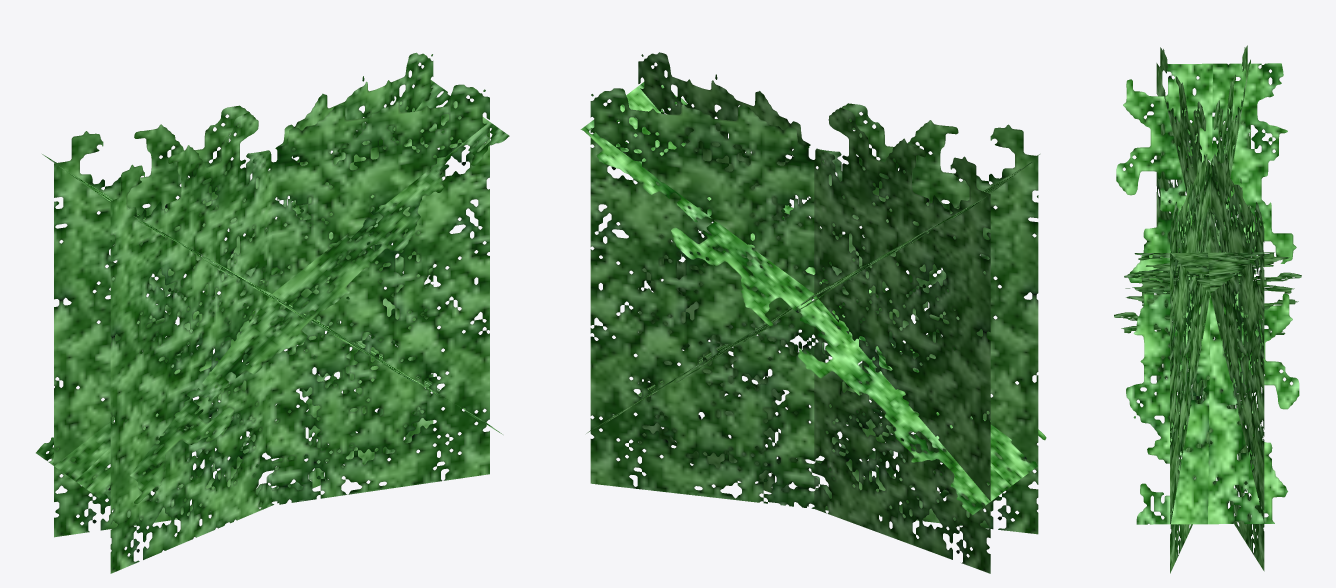
Rendered from bush_tall_full_overgrown_spring.fbx.
The picture shows the model from 3 angles, left to right: view 1: azimuth 30°, elevation 25°; view 2: azimuth 150°, elevation 25°; view 3: azimuth 270°, elevation 25°; orthographic projection. The views are drawn at different scales.
Parts seen in each view (by area): view 1: bush_tall_full_overgrown_spring; view 2: bush_tall_full_overgrown_spring; view 3: bush_tall_full_overgrown_spring.
Boxes of the visible parts, left/top/right/bottom form: bush_tall_full_overgrown_spring: left=36, top=52, right=509, bottom=573; bush_tall_full_overgrown_spring: left=580, top=52, right=1046, bottom=573; bush_tall_full_overgrown_spring: left=1114, top=45, right=1301, bottom=573.
Size of the model in its own units: 200 by 206 by 108.
1 material, 1 textured.
